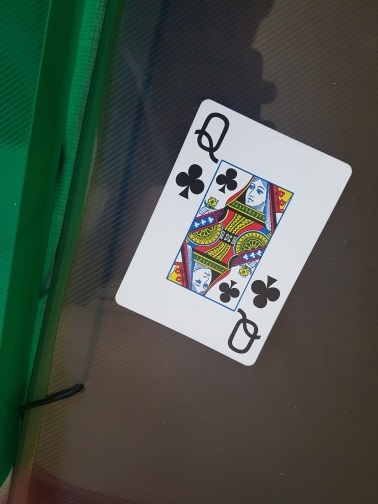queen: (115, 99, 354, 368)
